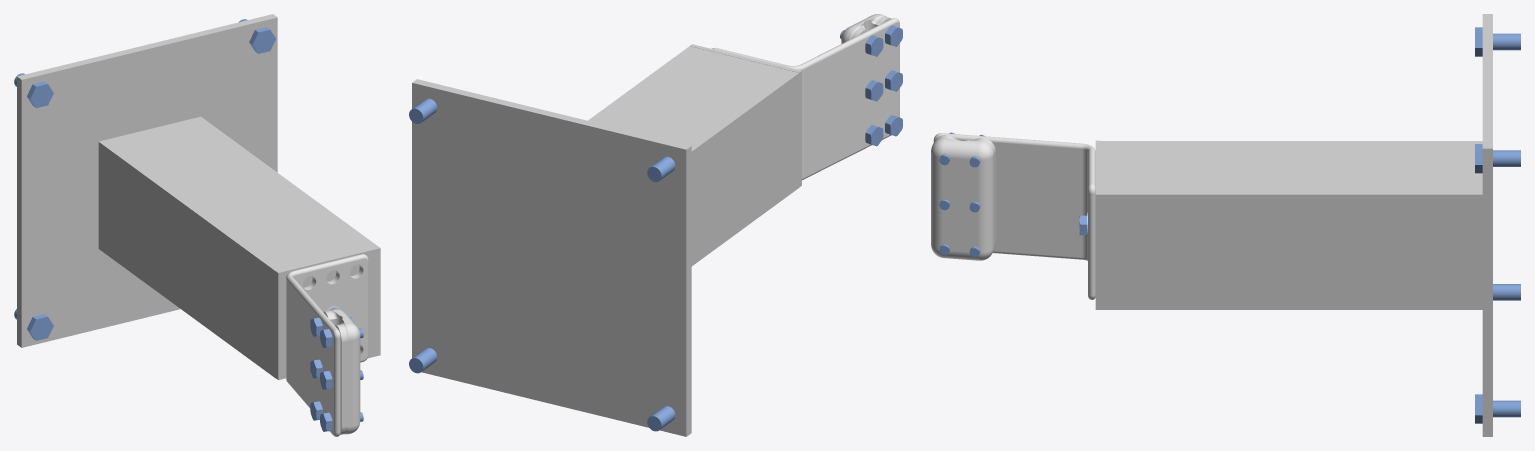
File: P_Inox_Rigide.glb
3 views of the same model, side by side, from view 1: azimuth 30°, elevation 25°; view 2: azimuth 150°, elevation 25°; view 3: azimuth 270°, elevation 25° (orthographic). The views are drawn at different scales.
Parts seen in each view (by area): view 1: tube, Platin_NewPro, couvert_tube, Matrice_NewPro, boulon (×3); view 2: tube, Platin_NewPro, boulon (×4), couvert_tube, Matrice_NewPro; view 3: tube, Platin_NewPro, Matrice_NewPro, boulon (×3), couvert_tube.
Boxes of the visible parts, x1,y1,x2,y2 form: tube: (17,14,377,378); Platin_NewPro: (286,254,368,436); couvert_tube: (276,246,380,379); Matrice_NewPro: (323,309,360,434); boulon (×3): (14,19,275,340); tube: (412,46,799,436); Platin_NewPro: (712,18,899,179); boulon (×4): (409,98,675,431); couvert_tube: (690,44,801,187); Matrice_NewPro: (841,14,891,43); tube: (1100,14,1492,436); Platin_NewPro: (933,133,1095,299); Matrice_NewPro: (931,135,995,260); boulon (×3): (1475,27,1520,423); couvert_tube: (1095,140,1100,309).
Size of the model in its own units: 0.25 by 0.25 by 0.4634.
